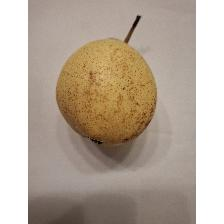Birne: (53, 12, 162, 150)
